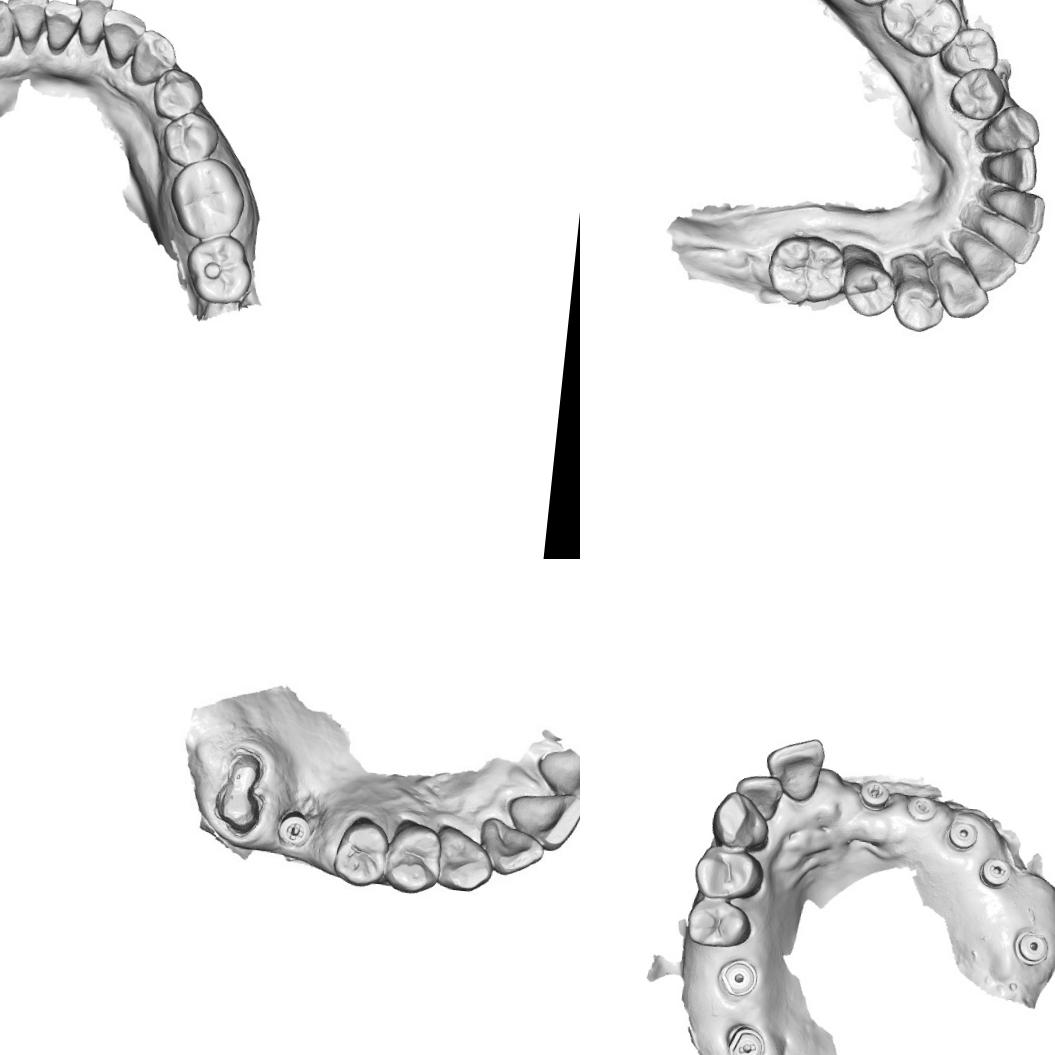canine: (928, 246, 992, 320), (432, 824, 496, 898), (708, 789, 775, 853), (978, 101, 1043, 157), (128, 26, 181, 90), (0, 0, 19, 58)
crown: (208, 746, 270, 843)
implant: (714, 954, 760, 1000), (1012, 929, 1050, 968), (945, 818, 981, 852)
implant_minus: (720, 1021, 769, 1055), (976, 854, 1017, 894), (904, 793, 938, 824)
implant_plus: (274, 809, 314, 852), (856, 776, 892, 813)
incisor: (500, 788, 580, 853), (761, 733, 827, 805), (474, 815, 543, 879), (955, 226, 1018, 296), (970, 213, 1039, 267), (96, 7, 148, 72), (980, 141, 1041, 194), (980, 182, 1044, 229), (1, 0, 50, 56), (732, 772, 786, 822), (39, 0, 83, 55), (70, 0, 115, 51)
molar: (165, 154, 249, 242), (766, 229, 851, 312), (182, 230, 256, 307), (877, 0, 963, 61)
premolar: (379, 817, 446, 899), (689, 842, 765, 906), (328, 814, 389, 890), (837, 254, 899, 320), (684, 896, 755, 951), (160, 109, 222, 171), (946, 64, 1004, 125), (939, 22, 999, 80), (150, 66, 205, 123), (895, 273, 946, 334)
